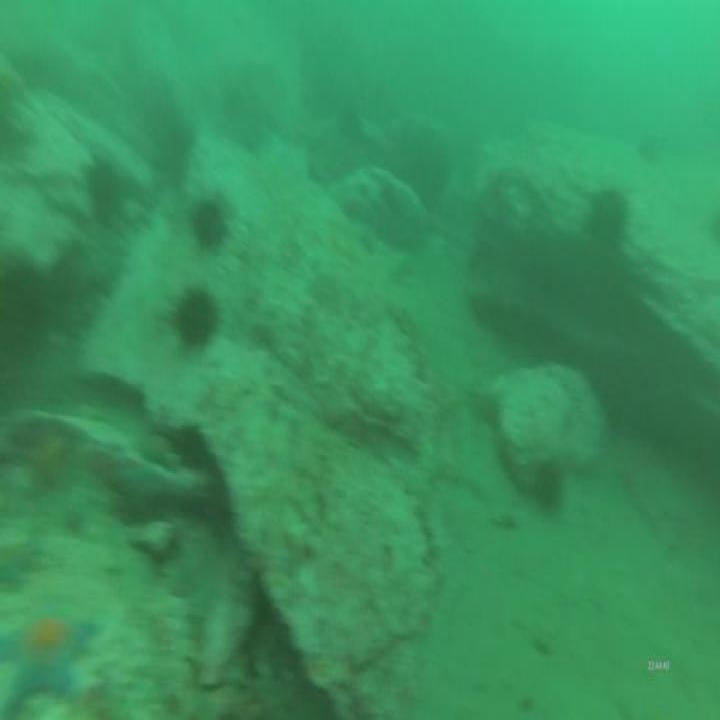echinus: (170, 278, 222, 356), (86, 155, 121, 233), (592, 176, 629, 245), (188, 187, 227, 247), (532, 454, 567, 518)
starfish: (0, 606, 103, 716), (21, 417, 79, 500)
